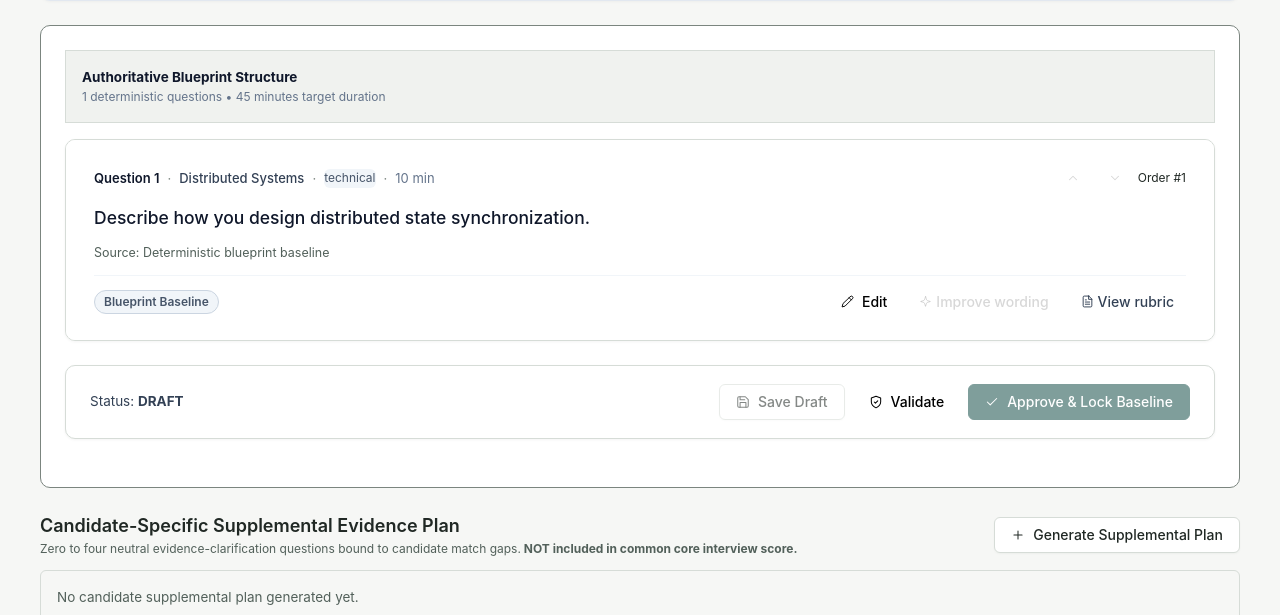
Test: Phase 3B.4 Interview Workspace Lifecycle & Review Workflow › loads existing template draft, allows safe edit, validate and approval flow
(page scrolled)
expect the text "Distributed Systems" is shown: met, box [179,168,304,188]
Note: Click Edit to enter inline edit mode
Click the button "Edit". click: (864, 302)
box: [829,286,899,318]
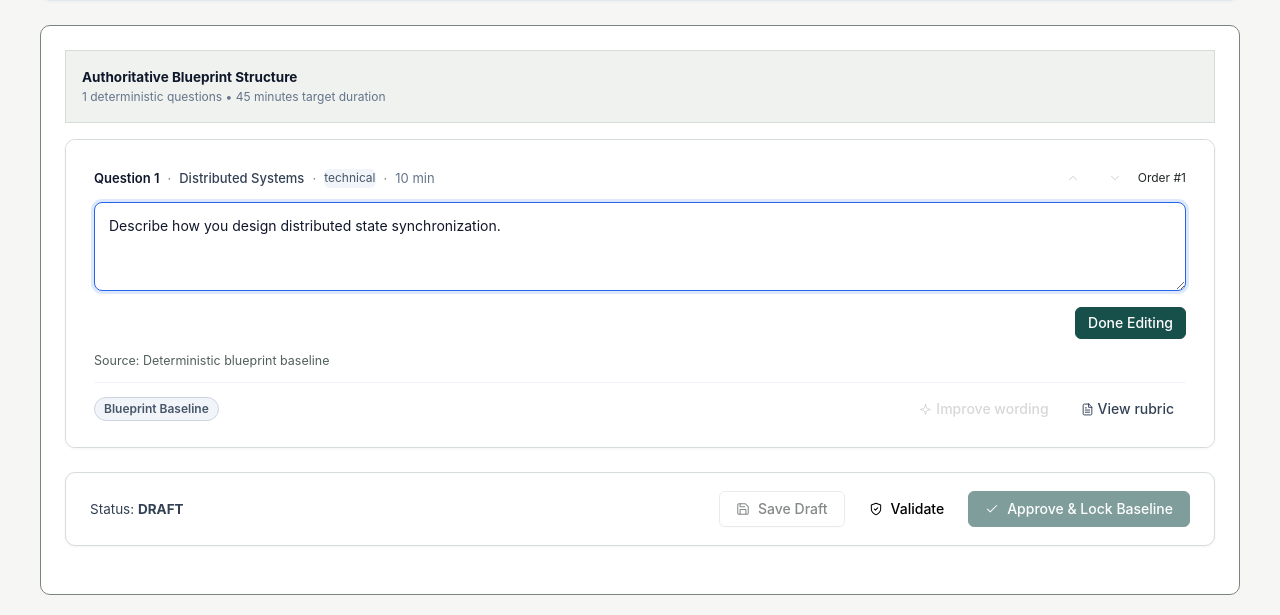
Note: Edit textarea
Replace the text in the text box showing "Describe how you design distributed state synchronization." with "Updated question text by recruiter.". click: (640, 247)
box: [94,202,1186,291]
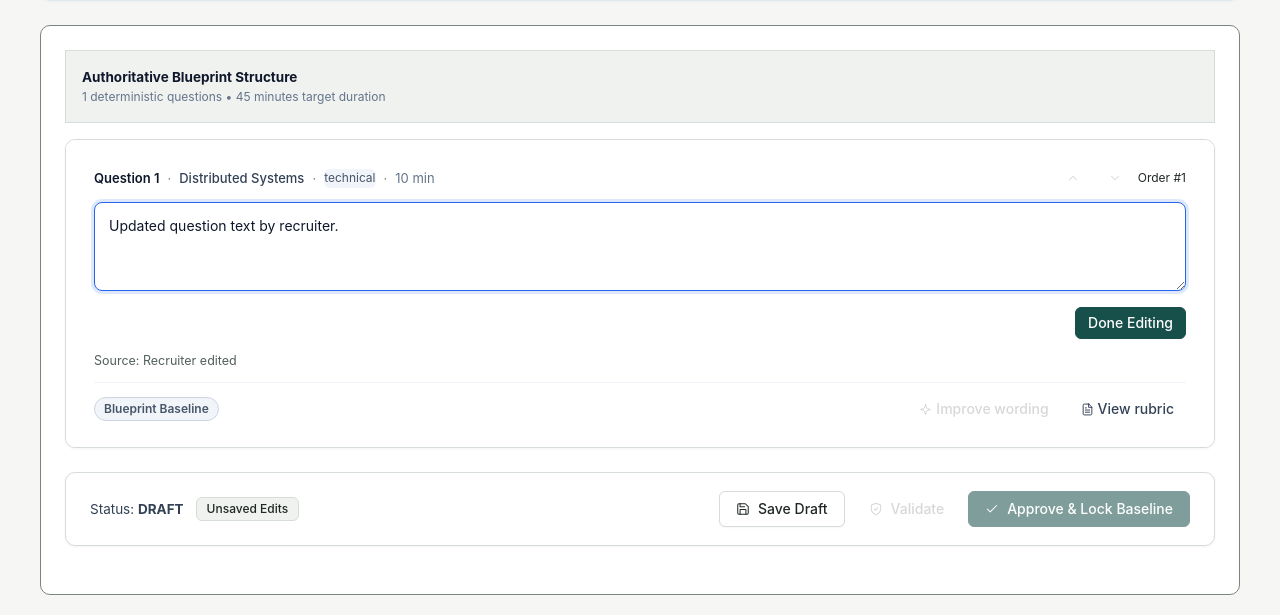
expect the text "Unsaved Edits" is shown: met, box [196,497,299,521]
Click the button "Save Draft". click: (782, 509)
box: [719,491,844,527]
(page scrolled)
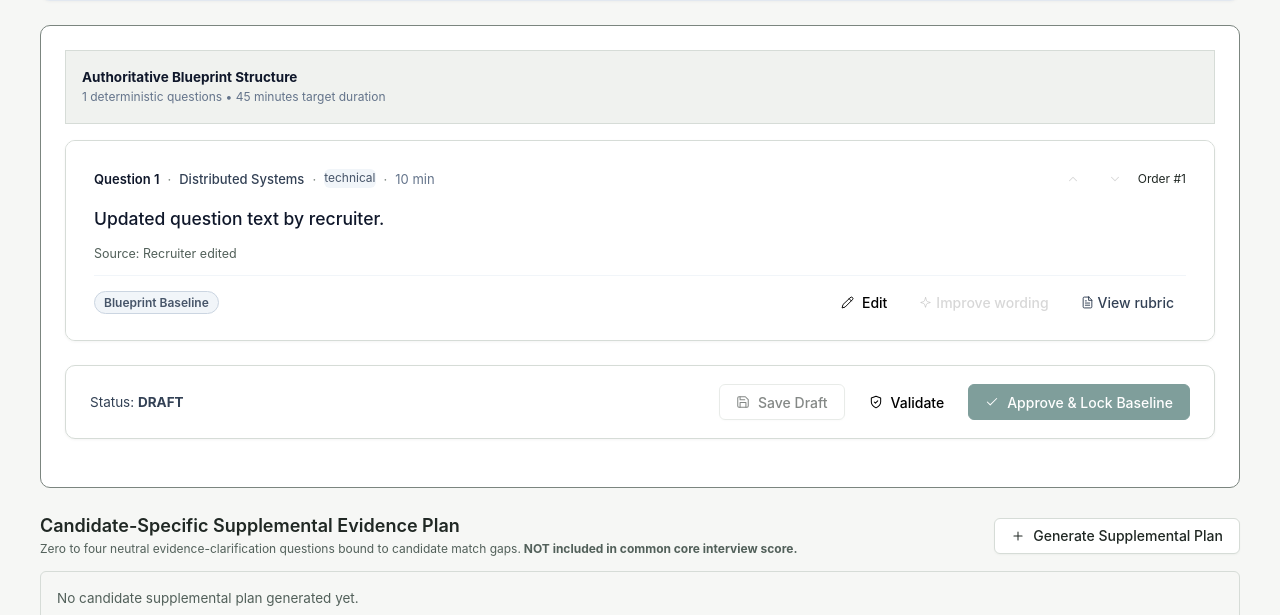
Click the button "Validate". click: (906, 402)
box: [852,384,960,420]
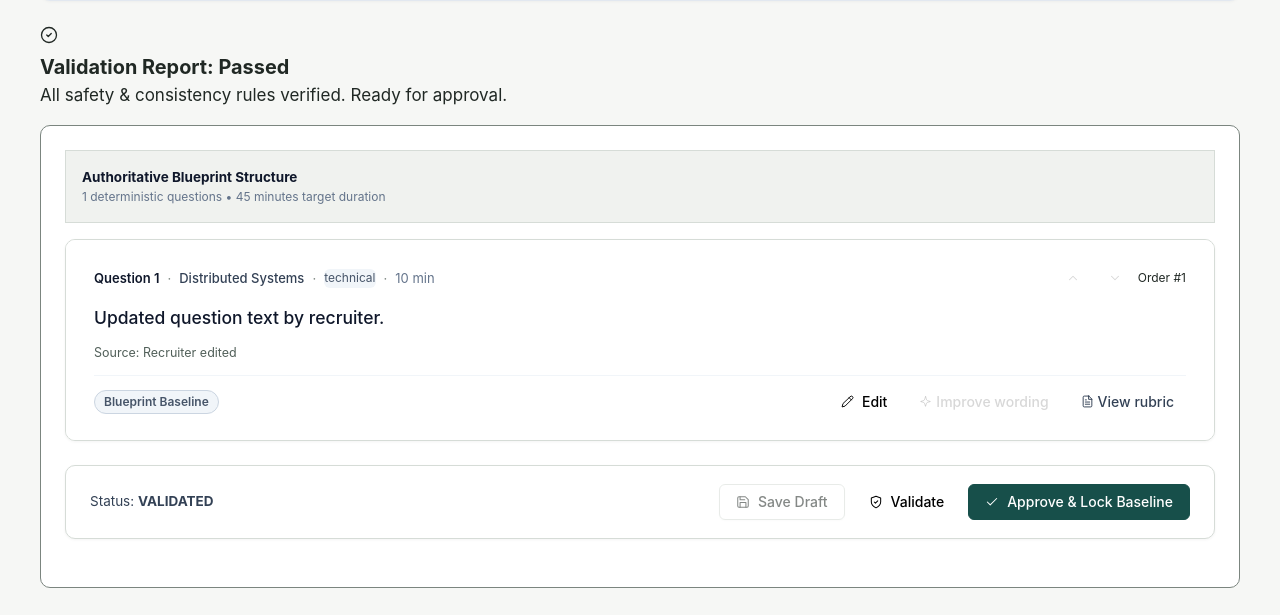
Click the button "Approve & Lock Baseline". click: (1079, 502)
box: [968,484,1190,520]
(page scrolled)
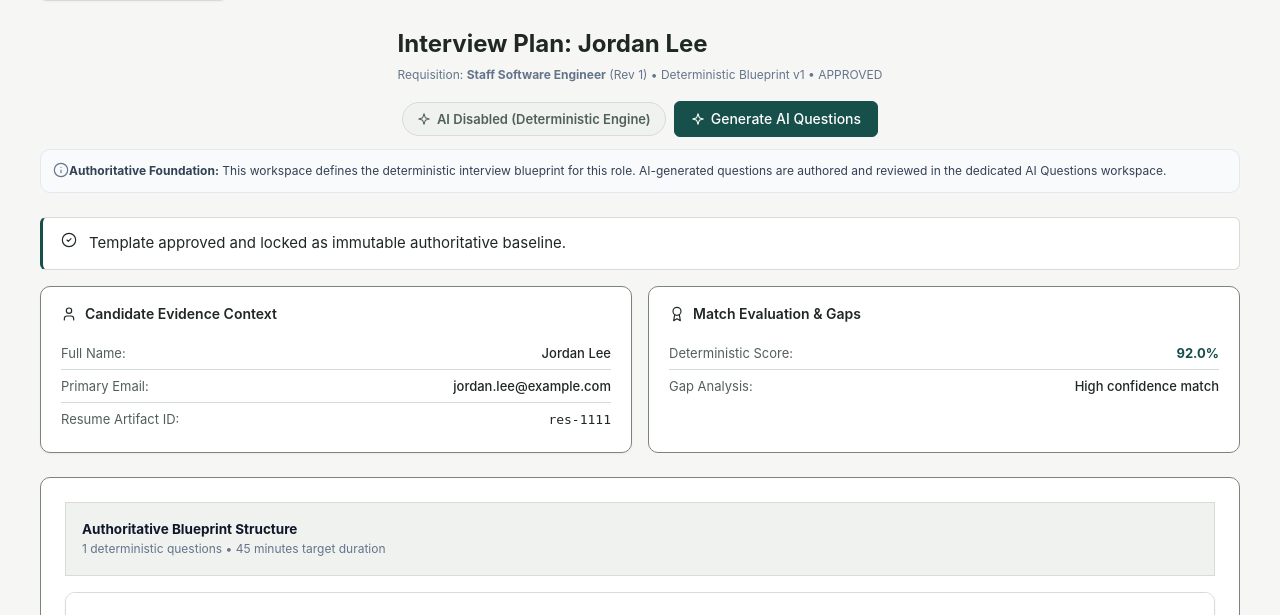
expect the text "Template approved and locked as immutable authoritative baseline." is shown: met, box [89,232,566,255]
